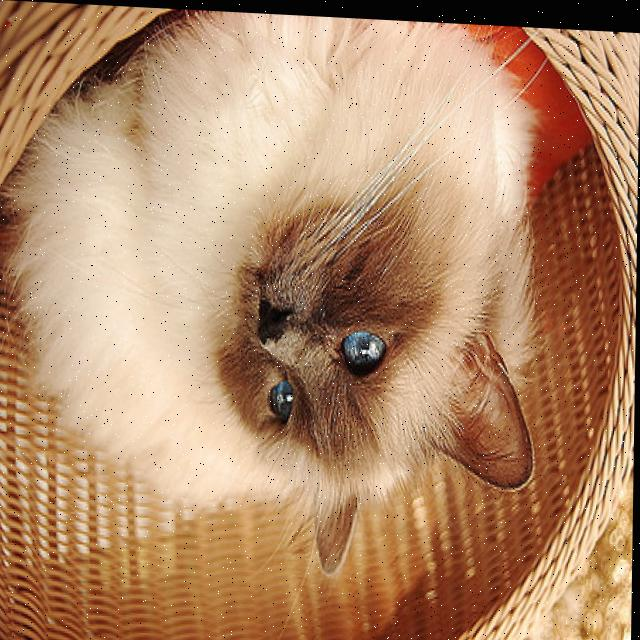Birman: (0, 0, 546, 588)
